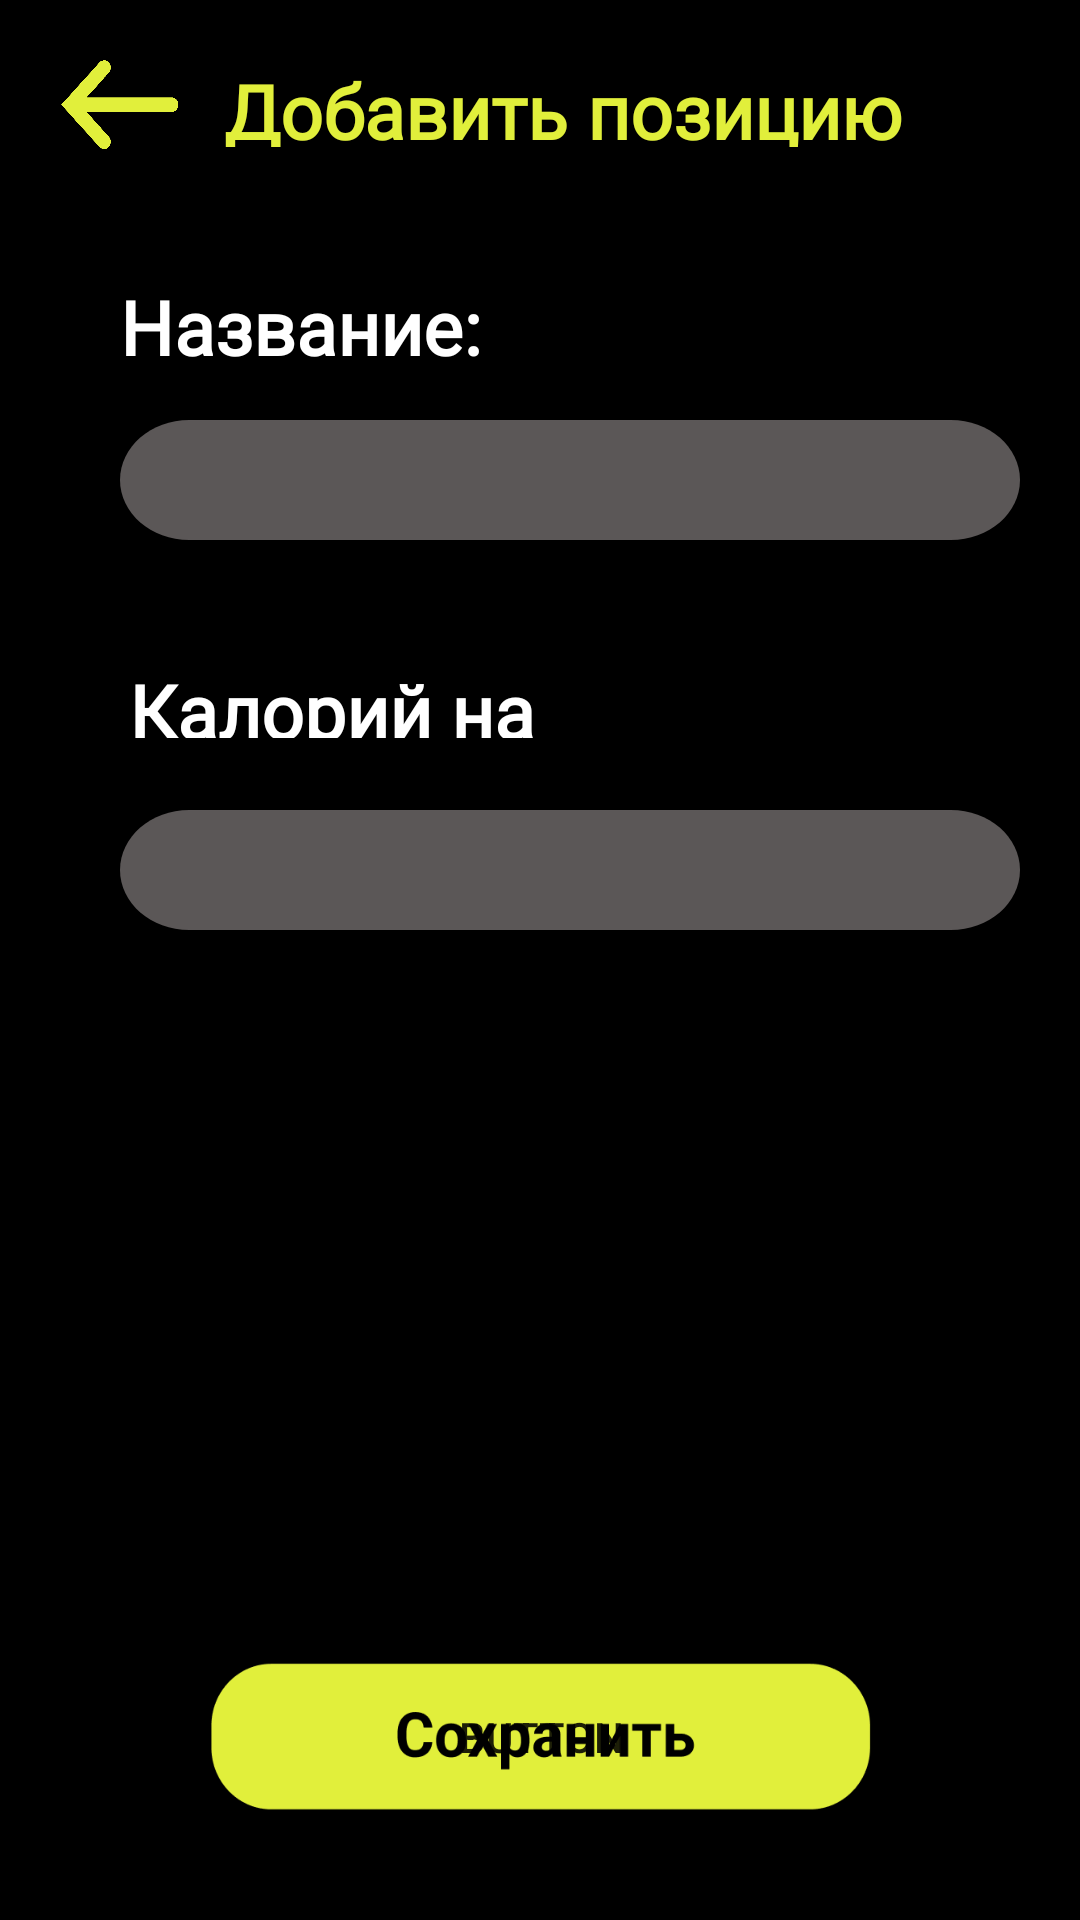

Icons on this 1080*1920 Android screen, each with the point to tap as (x,y):
backgreen: (119,104)
